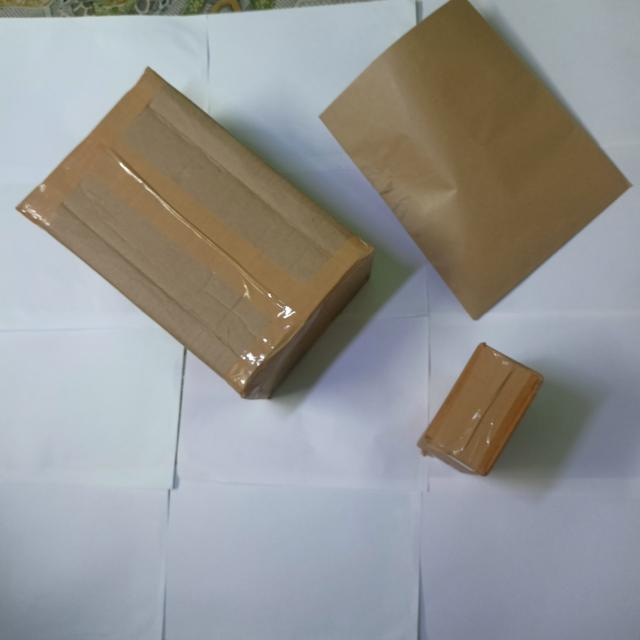box: (17, 70, 376, 403), (316, 1, 633, 324), (418, 345, 544, 479)
